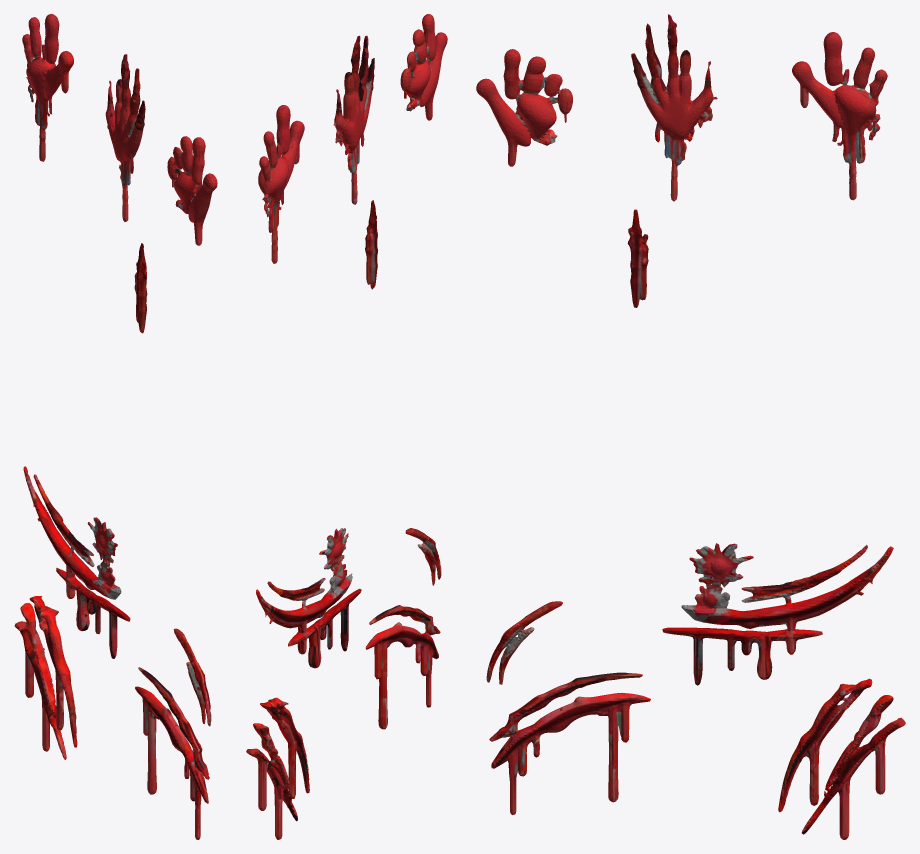
Rendered from rasgunios.glb.
3 views of the same model, side by side, from view 1: azimuth 30°, elevation 25°; view 2: azimuth 150°, elevation 25°; view 3: azimuth 270°, elevation 25° (orthographic). The views are drawn at different scales.
Visible parts, largest first — view 1: tripo_node_0a05e646-77f8-4e3c-a316-b162e75f3e93; view 2: tripo_node_0a05e646-77f8-4e3c-a316-b162e75f3e93; view 3: tripo_node_0a05e646-77f8-4e3c-a316-b162e75f3e93.
Part boxes in pixels (left/top/right/bottom): tripo_node_0a05e646-77f8-4e3c-a316-b162e75f3e93: left=14, top=14, right=217, bottom=839; tripo_node_0a05e646-77f8-4e3c-a316-b162e75f3e93: left=246, top=14, right=447, bottom=839; tripo_node_0a05e646-77f8-4e3c-a316-b162e75f3e93: left=476, top=14, right=905, bottom=839.
Size of the model in its own units: 0.0344 by 0.9999 by 0.4721.
Materials: 1 (1 with a texture image).
